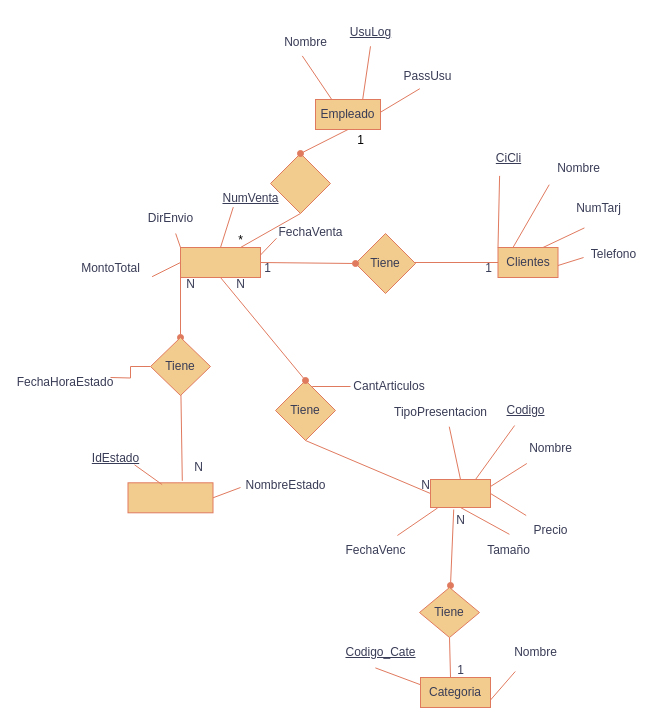
Some shapes in this 665 by 725 pixel diagram are drawn without their labels. The shapes that lost their labels are listed below. From the top down, each one's centre as x and y in pixels, then its label:
At (x=300, y=183): "Gestiona".
At (x=220, y=262): "Venta".
At (x=170, y=497): "EstadoVentas".
At (x=460, y=493): "Articulo".
